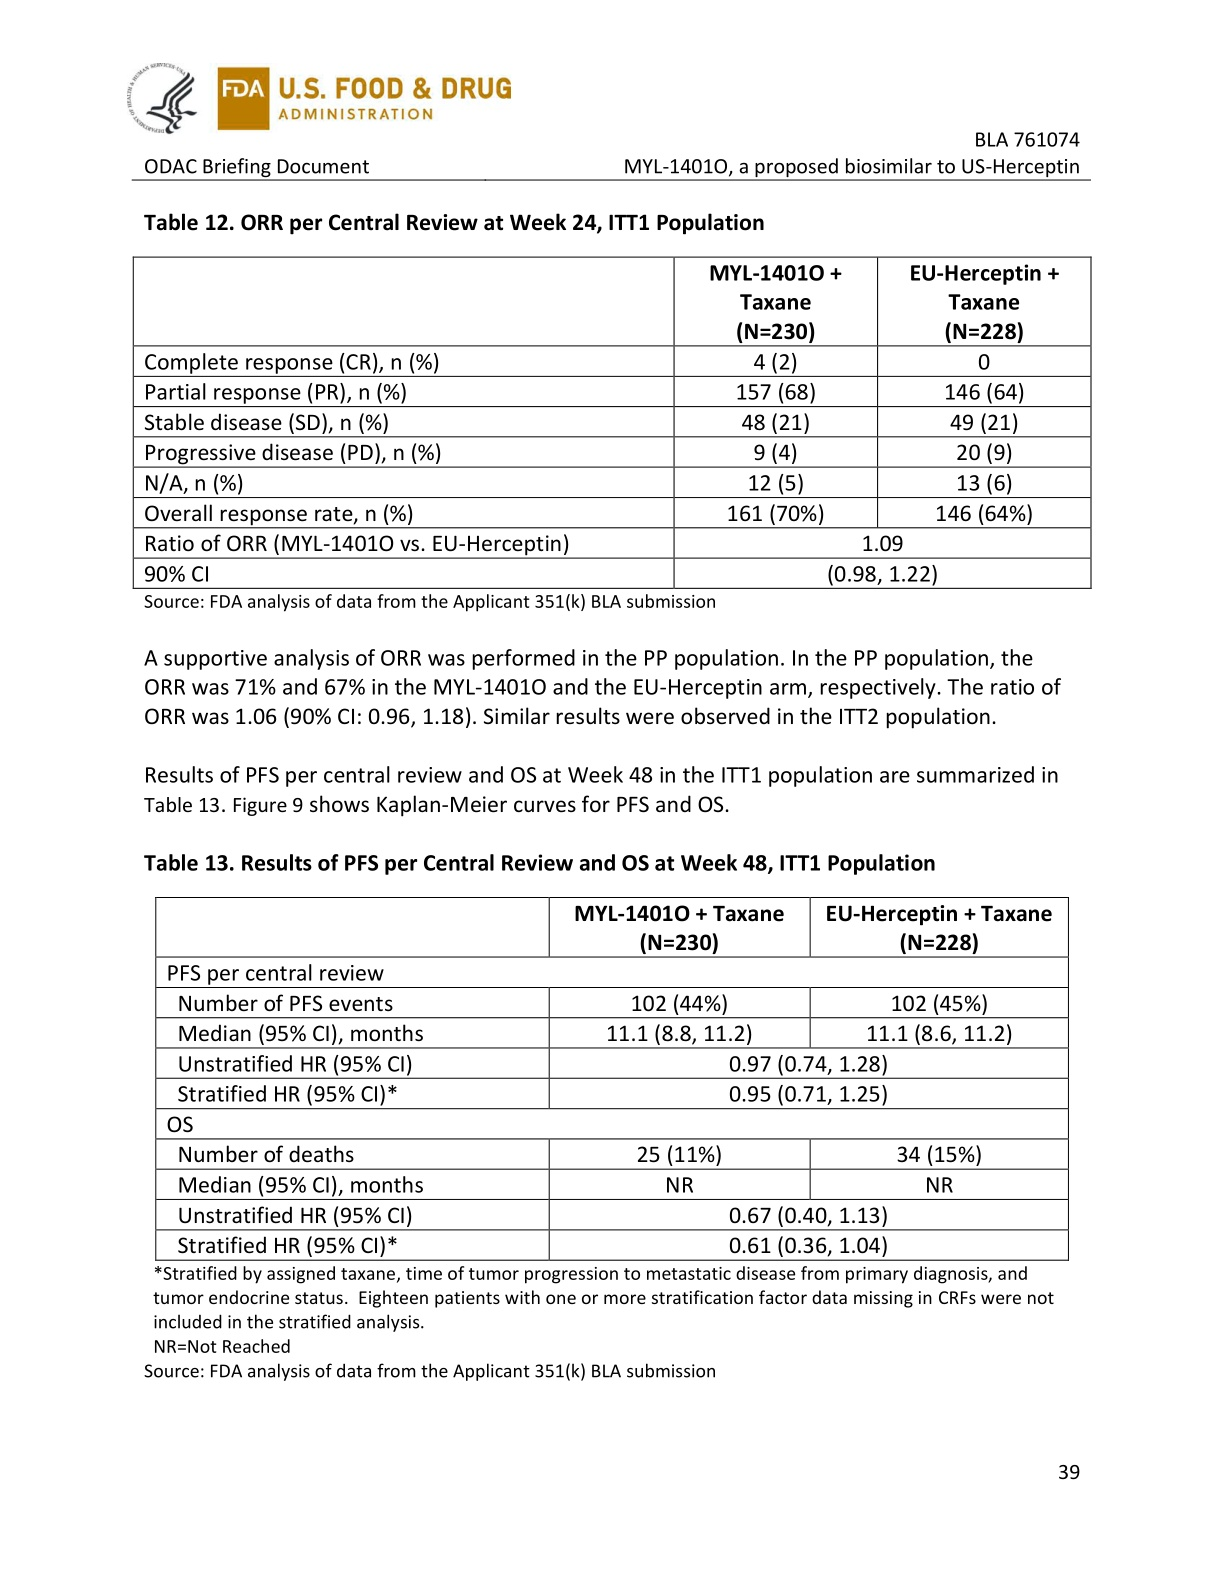merged_cells: (154, 896, 1068, 1263), (132, 255, 1092, 590)
